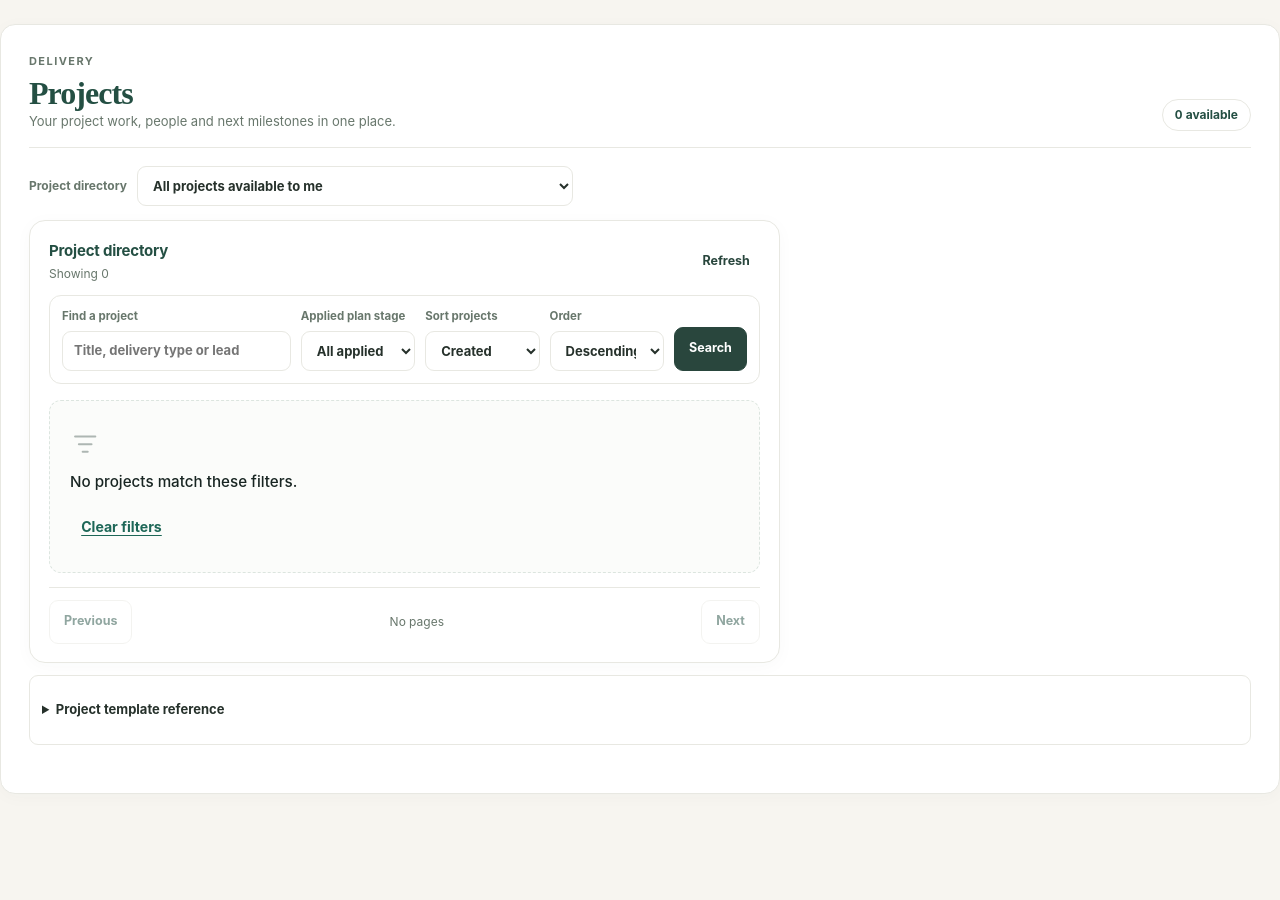
Scenario: ProjectWorkspace UX structure › clears the directory filters when the empty-state action is used
Expected: the text "No projects match these filters." is shown, [70,471,297,494]
In the field named "Search projects": (176, 351) [62,331,291,371], type "renovation"
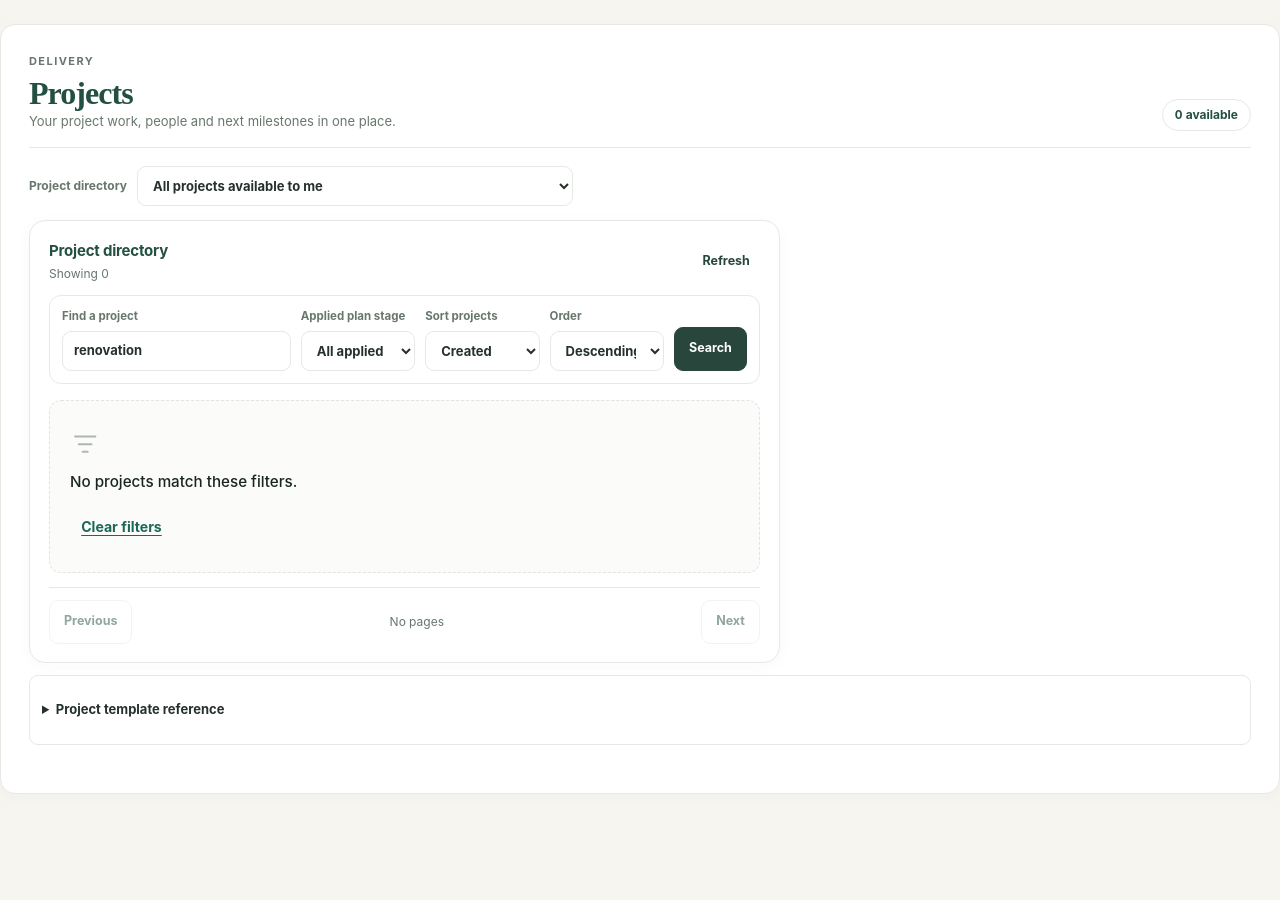
Submit the form "Search", box [49,295,760,384]
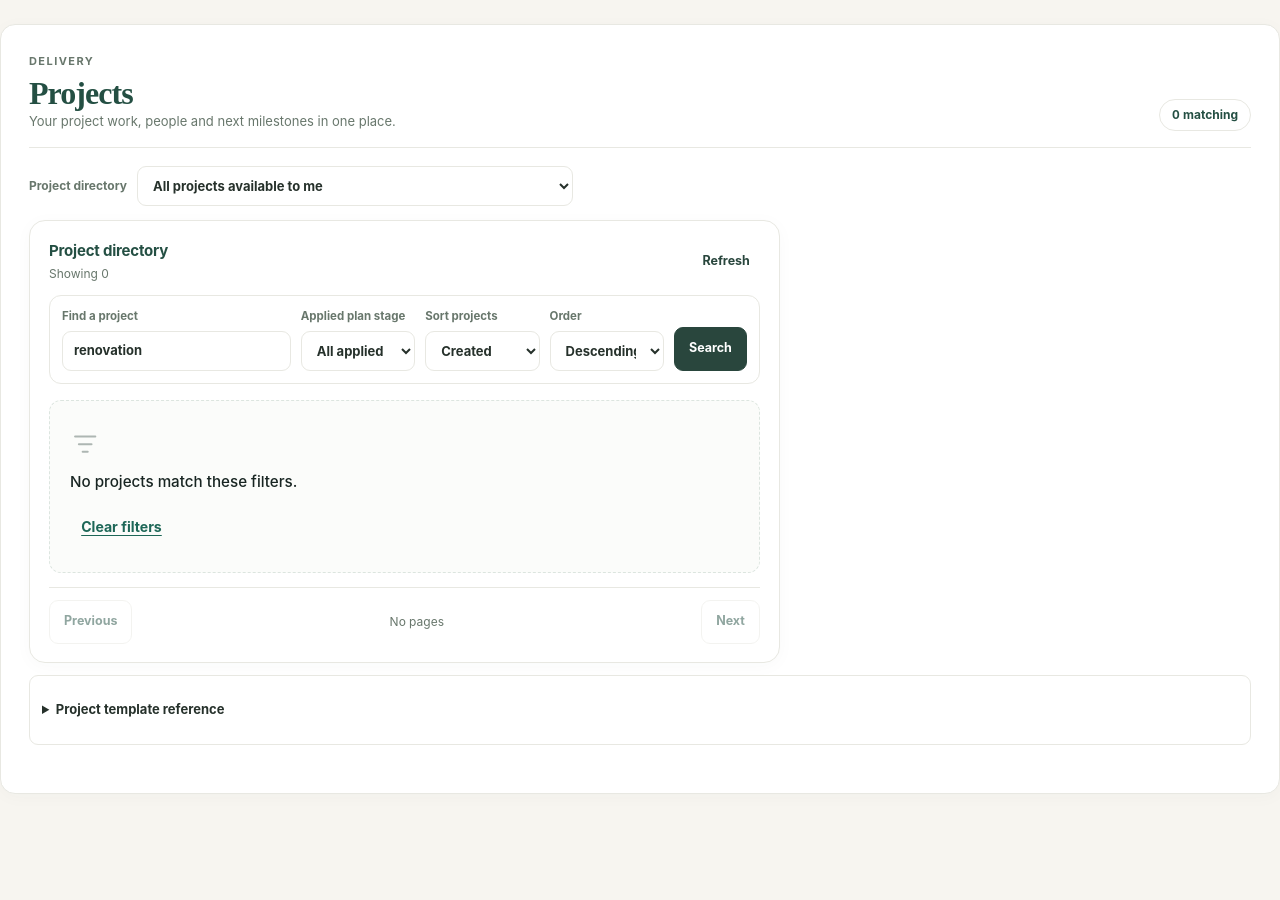
Click the button "Clear filters": (122, 527) [70,510,173,544]
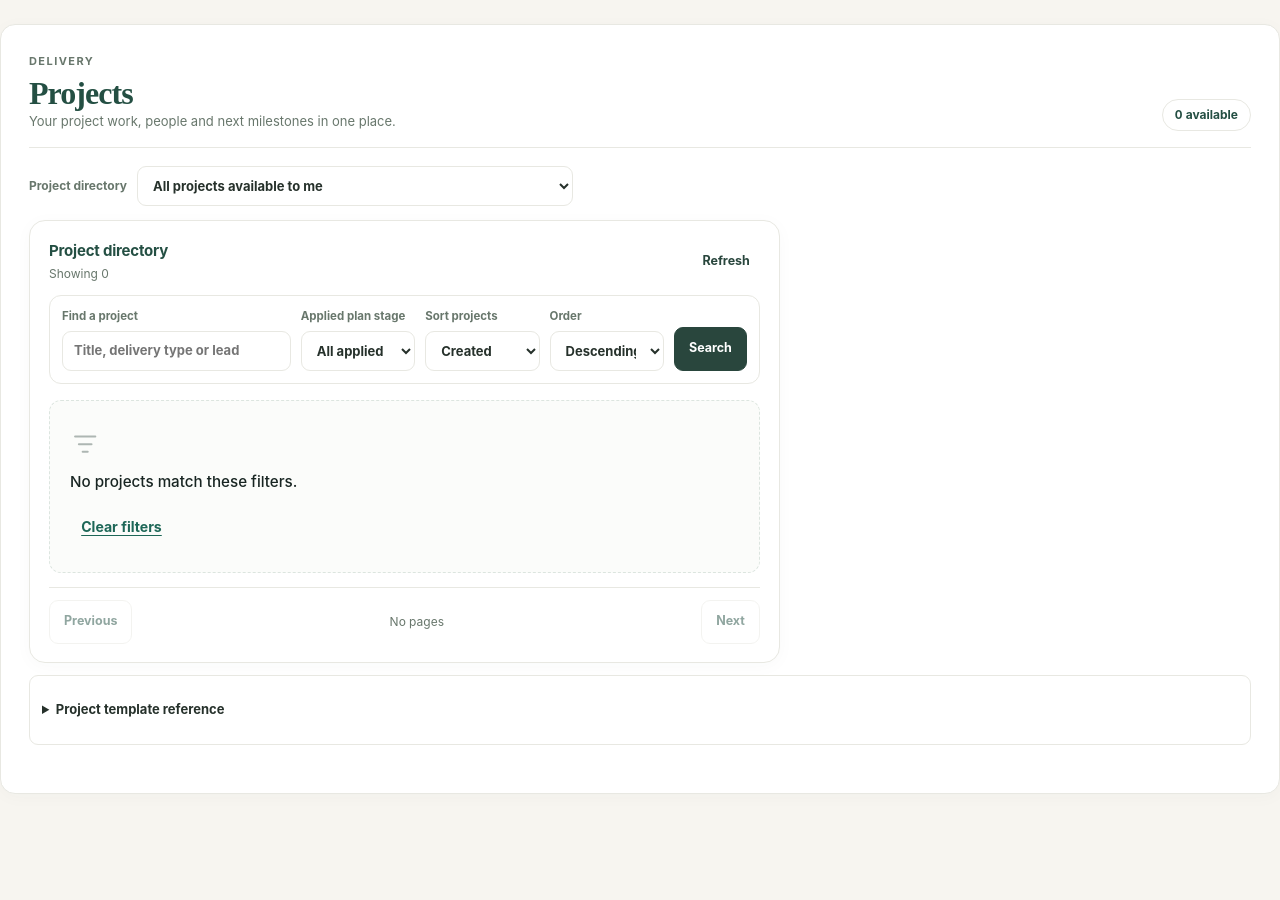
Expected: the dropdown labelled "Sort projects" shows "Created", [425,331,540,371]
Result: the field named "Search projects" is empty at [62,331,291,371]
